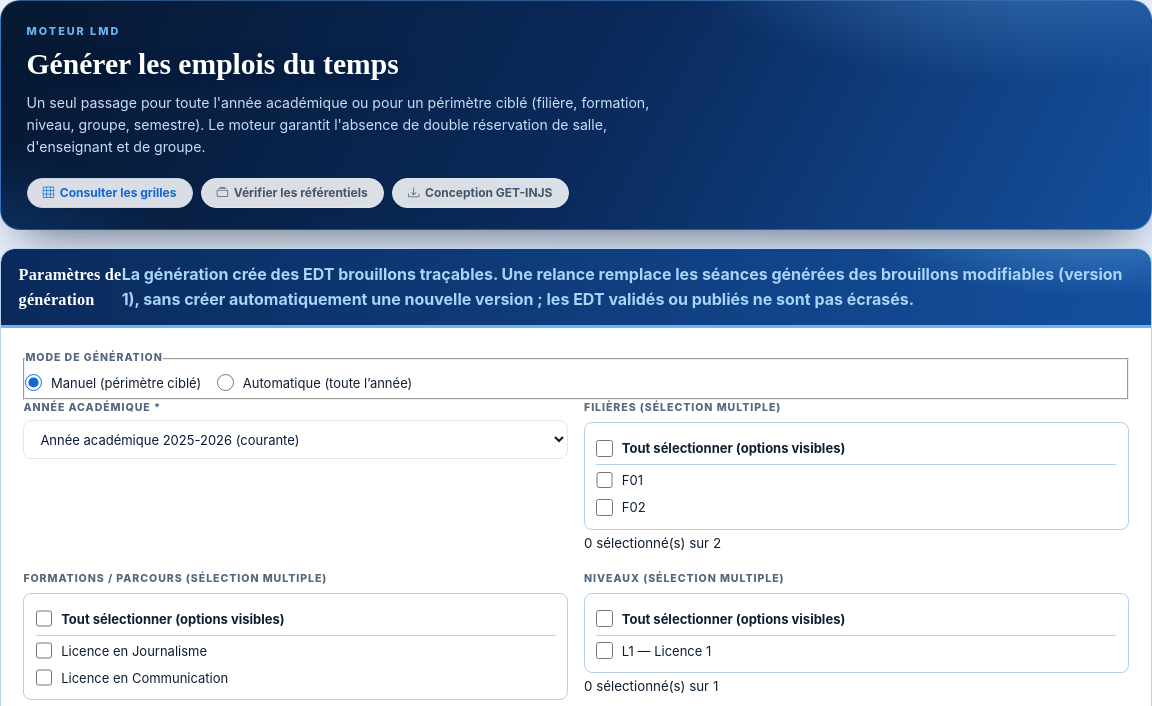
GET-INJS — génération des emplois du temps (maquette) et import › Tout sélectionner coche uniquement les options visibles et se décoche
Click the checkbox labelled "F01" at (605, 480), box [596, 472, 613, 488]
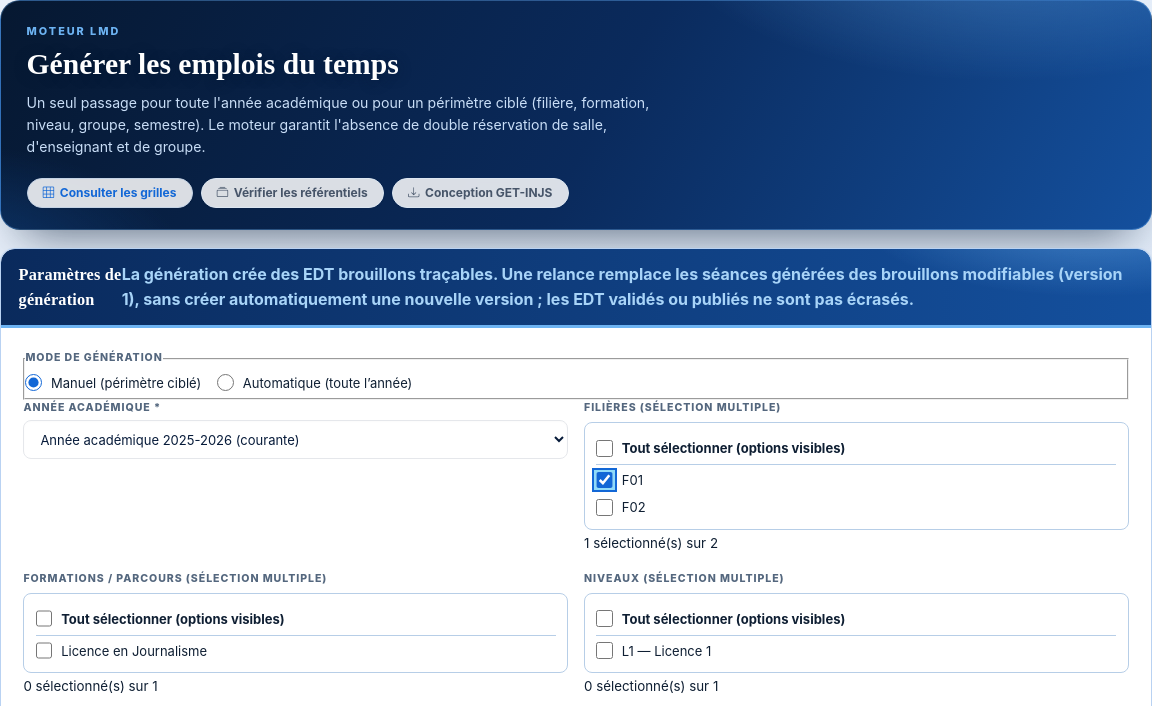
Click the 2nd checkbox labelled "Tout sélectionner (options visibles)" at (44, 619), box [36, 610, 52, 627]
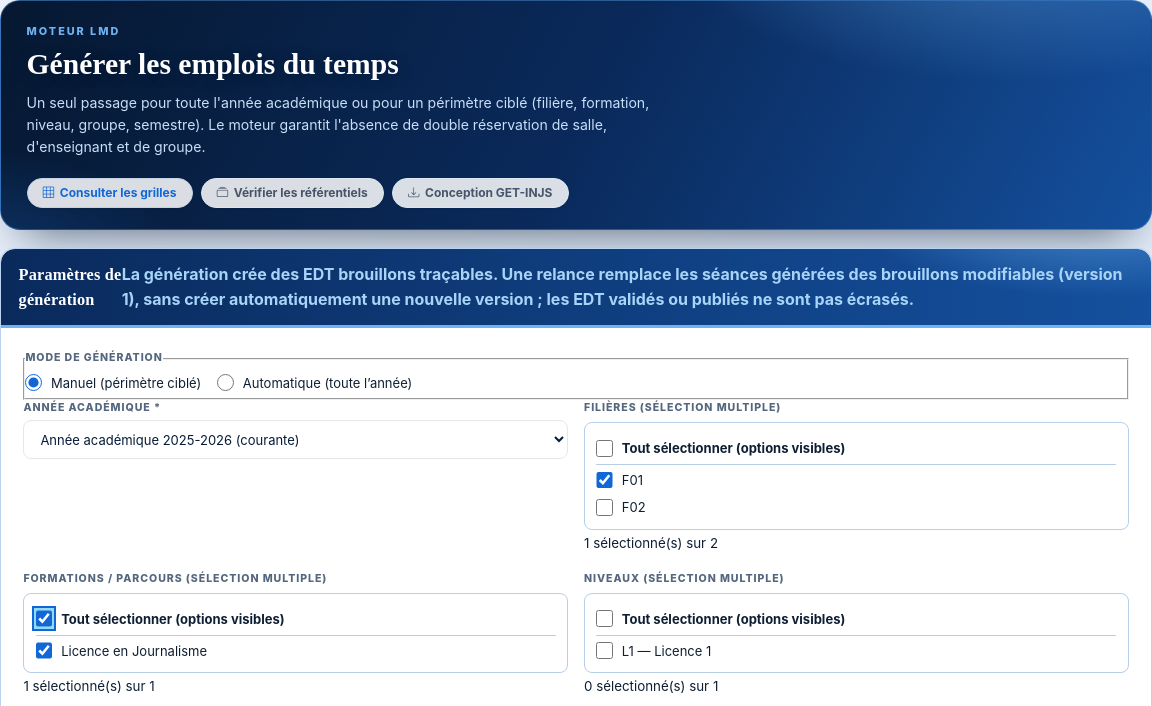
Expected: the checkbox labelled "Licence en Communication" is not shown
Now the checkbox labelled "Licence en Journalisme" is checked, box [36, 642, 52, 659]
Click the checkbox labelled "Tout sélectionner (options visibles)" below "Niveaux (sélection multiple)" at (605, 619), box [596, 610, 613, 627]
(page scrolled)
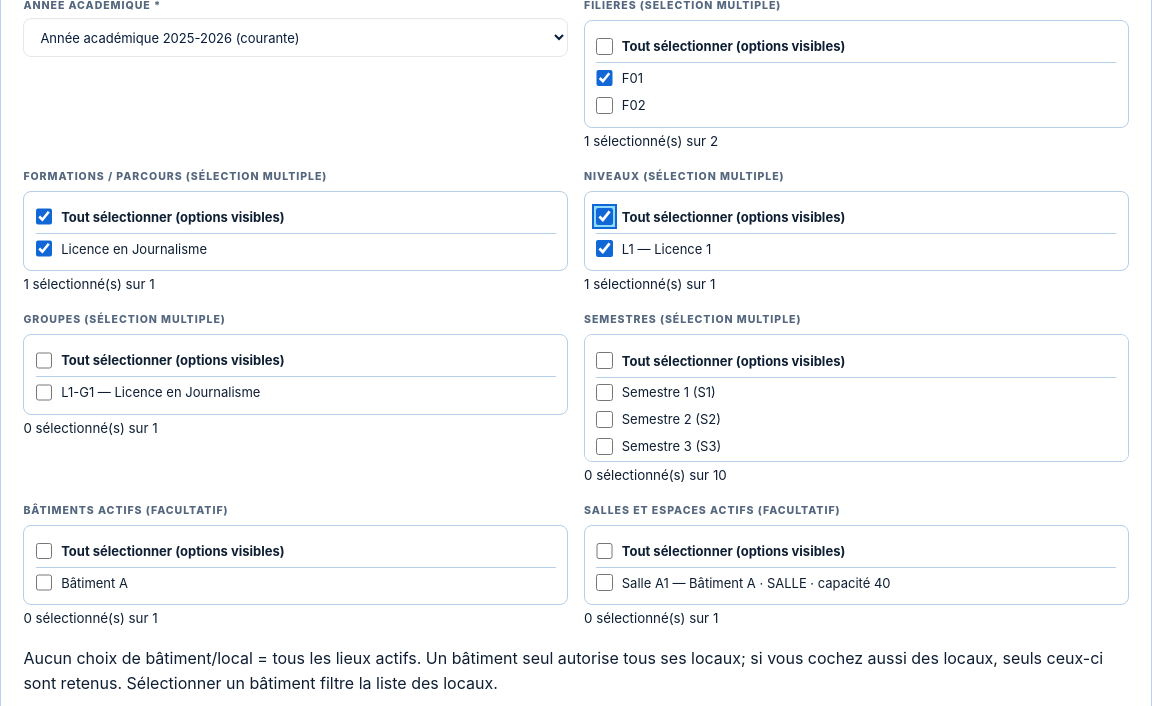
Click the checkbox labelled "Tout sélectionner (options visibles)" below "Groupes (sélection multiple)" at (44, 360), box [36, 352, 52, 369]
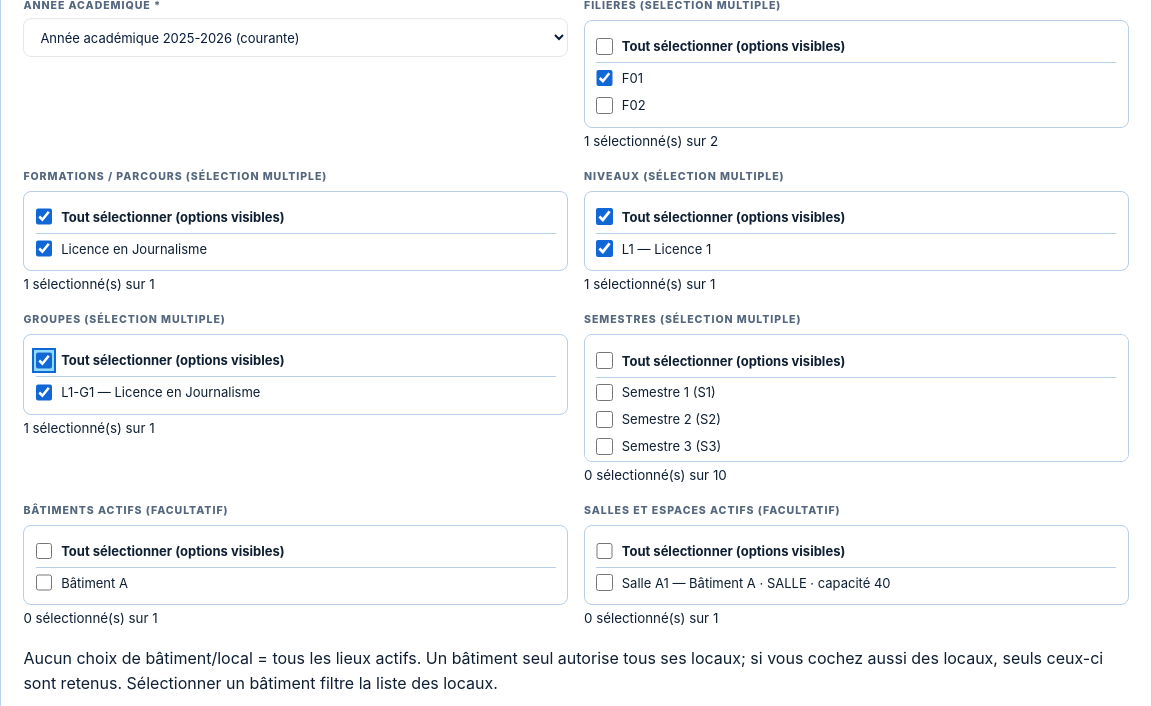
Click the checkbox labelled "Tout sélectionner (options visibles)" below "Semestres (sélection multiple)" at (605, 360), box [596, 352, 613, 369]
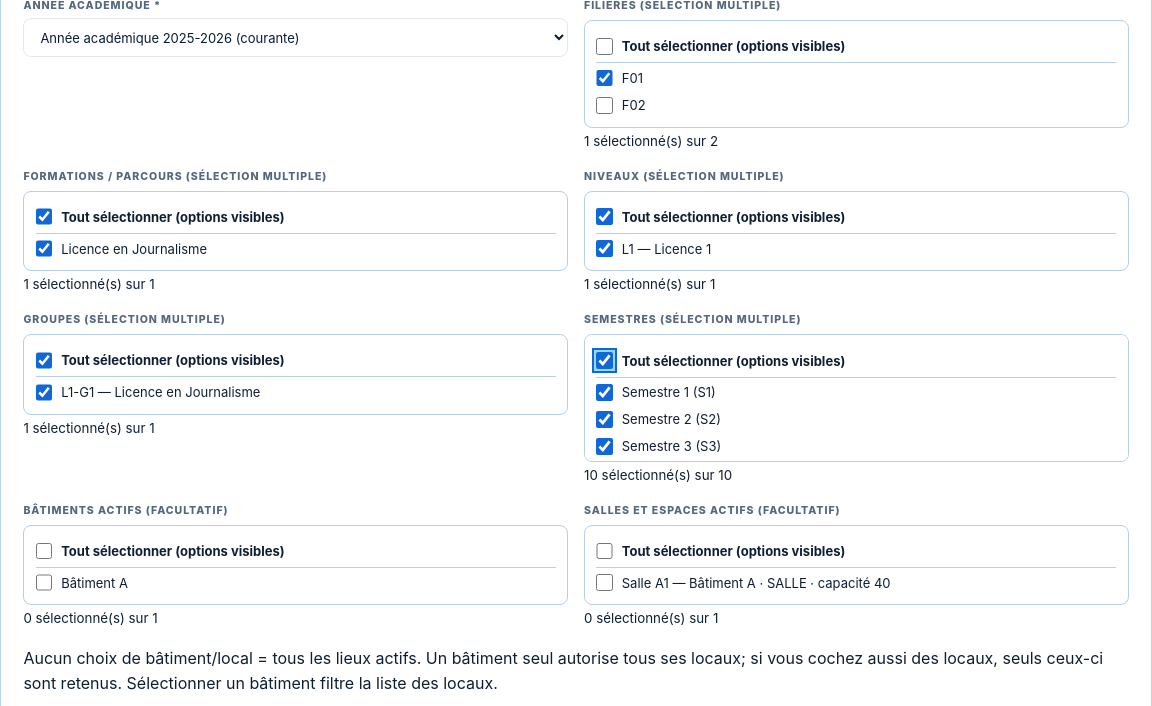
Now the checkbox labelled "L1-G1 — Licence en Journalisme" is checked, box [36, 384, 52, 400]
Click the checkbox labelled "Tout sélectionner (options visibles)" below "Groupes (sélection multiple)" at (44, 360), box [36, 352, 52, 369]
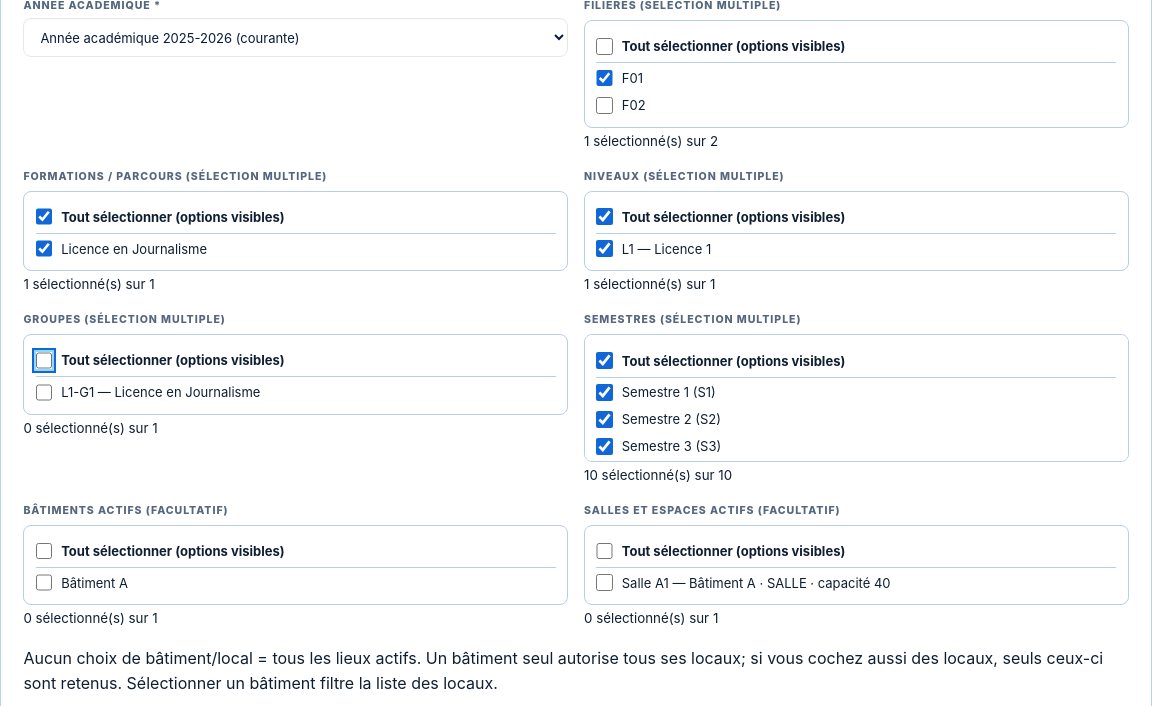
Now the checkbox labelled "L1-G1 — Licence en Journalisme" is not checked, box [36, 384, 52, 400]
